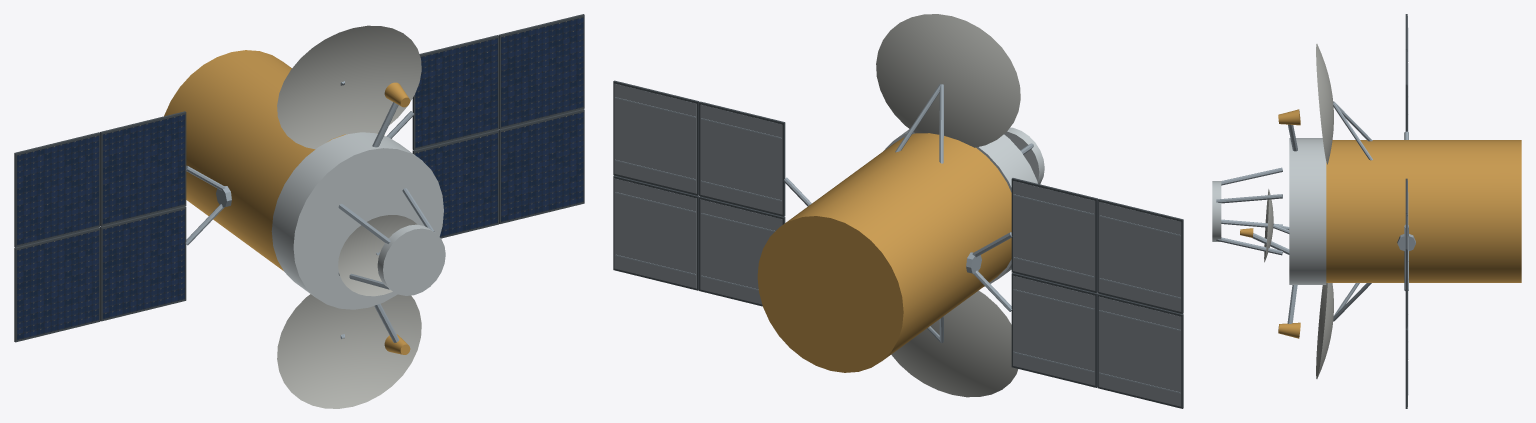
The model's file is ref-kaur-4-al-tair-23680.glb.
The picture shows the model from 3 angles, left to right: view 1: azimuth 30°, elevation 25°; view 2: azimuth 150°, elevation 25°; view 3: azimuth 270°, elevation 25°; orthographic projection. The views are drawn at different scales.
Parts seen in each view (by area): view 1: Solar cell panel (×8), Communications reflector (×2), Service barrel, Equipment flange, Solar panel frame (×8), Antenna tower platform, Deck-mounted reflector; view 2: Rear array substrate (×8), Service barrel, Communications reflector (×2), Solar panel frame (×8), Equipment flange, Antenna tower platform; view 3: Service barrel, Equipment flange, Communications reflector (×2), Antenna tower leg (×3), Feed horn (×2), Antenna tower platform, Deck-mounted reflector, Solar panel frame.
Part boxes in pixels (box(x1,y1,x2,y2)): Solar cell panel (×8): box(16, 17, 583, 340); Communications reflector (×2): box(277, 25, 421, 408); Service barrel: box(164, 50, 345, 270); Equipment flange: box(271, 132, 443, 309); Solar panel frame (×8): box(14, 14, 584, 342); Antenna tower platform: box(377, 224, 445, 295); Deck-mounted reflector: box(338, 215, 417, 296); Rear array substrate (×8): box(614, 83, 1181, 406); Service barrel: box(757, 133, 1011, 372); Communications reflector (×2): box(876, 14, 1020, 397); Solar panel frame (×8): box(613, 80, 1183, 408); Equipment flange: box(884, 129, 1037, 286); Antenna tower platform: box(1004, 127, 1044, 184); Service barrel: box(1326, 140, 1521, 282); Equipment flange: box(1289, 138, 1326, 284); Communications reflector (×2): box(1316, 44, 1333, 378); Antenna tower leg (×3): box(1216, 167, 1282, 255); Feed horn (×2): box(1278, 109, 1300, 338); Antenna tower platform: box(1212, 181, 1221, 241); Deck-mounted reflector: box(1264, 189, 1273, 262); Solar panel frame: box(1405, 214, 1407, 328).
Bounding box in the file's own units: 15.98 × 10.15 × 8.88.
7 materials, 1 textured.
